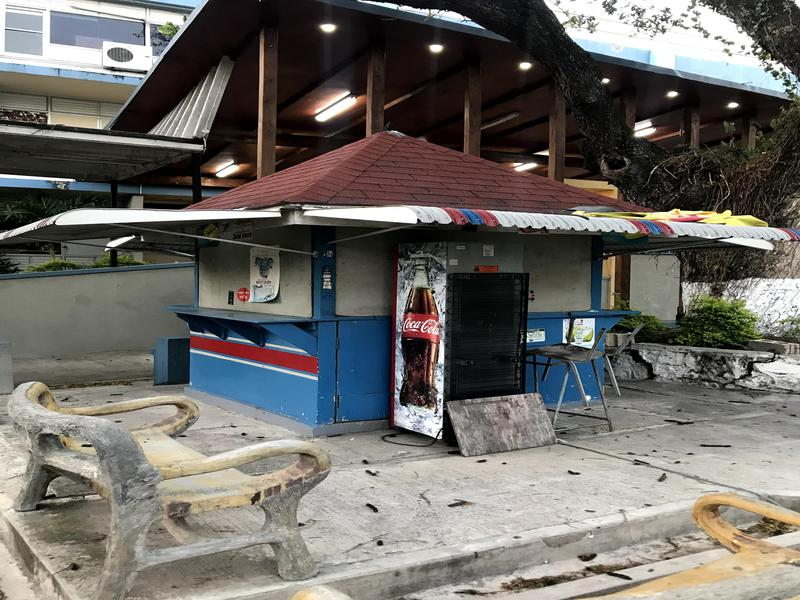18.0051667_-76.74944412_librarystall: (162, 124, 662, 468)
